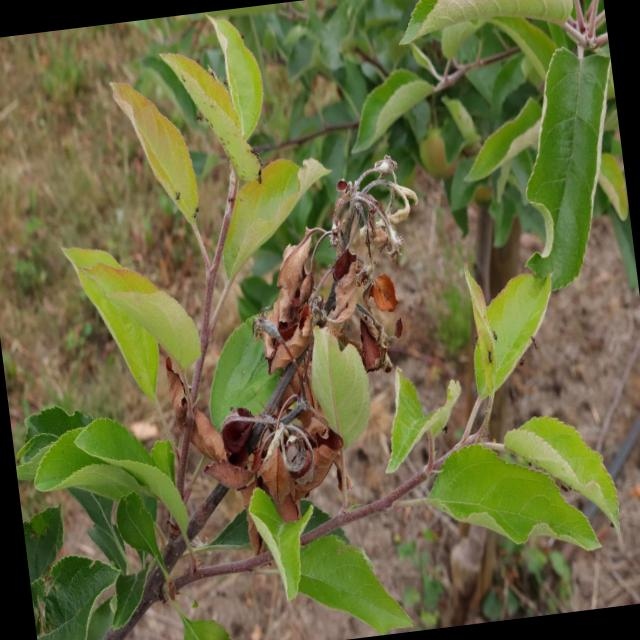-FireBlight-: (318, 166, 437, 370), (193, 387, 351, 522), (255, 242, 336, 405)
